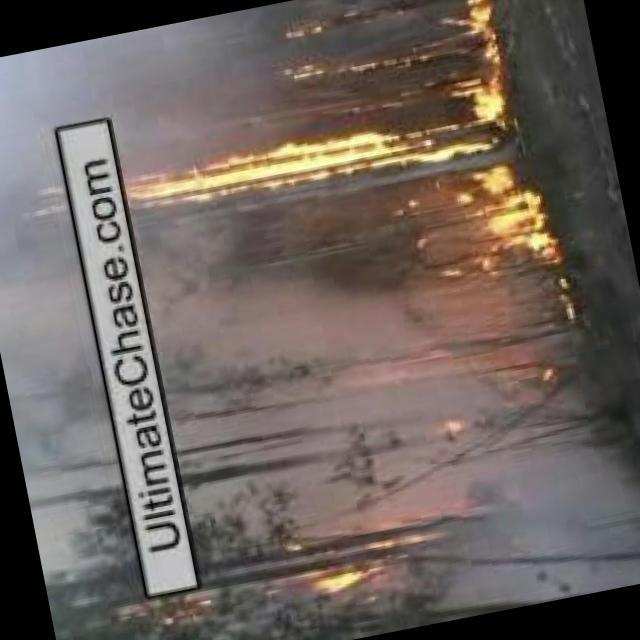Fire: (45, 96, 512, 232), (109, 548, 392, 640), (419, 159, 568, 296), (287, 34, 429, 92), (432, 1, 509, 88), (295, 18, 333, 38)
